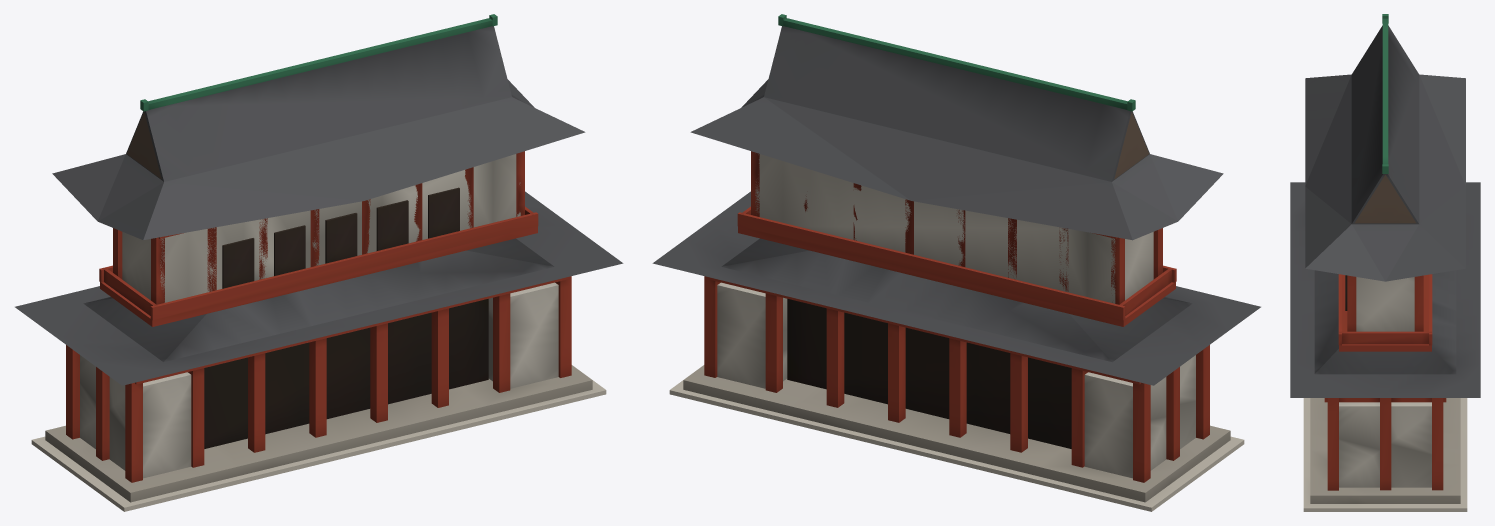
The model's file is rashomon.glb.
The picture shows the model from 3 angles, left to right: view 1: azimuth 30°, elevation 25°; view 2: azimuth 150°, elevation 25°; view 3: azimuth 270°, elevation 25°; orthographic projection. The views are drawn at different scales.
Visible parts, largest first — view 1: p1_halls, p2_roofs, p0_grounds; view 2: p1_halls, p2_roofs, p0_grounds; view 3: p2_roofs, p1_halls, p0_grounds.
Part boxes in pixels (left/top/right/bottom): p1_halls: left=45, top=151, right=592, bottom=502; p2_roofs: left=15, top=14, right=623, bottom=385; p0_grounds: left=31, top=366, right=606, bottom=511; p1_halls: left=683, top=151, right=1230, bottom=502; p2_roofs: left=652, top=14, right=1260, bottom=385; p0_grounds: left=669, top=366, right=1244, bottom=511; p2_roofs: left=1290, top=14, right=1480, bottom=397; p1_halls: left=1310, top=274, right=1460, bottom=503; p0_grounds: left=1303, top=398, right=1467, bottom=511.
Size of the model in its own units: 37.44 by 25.75 by 13.94.
